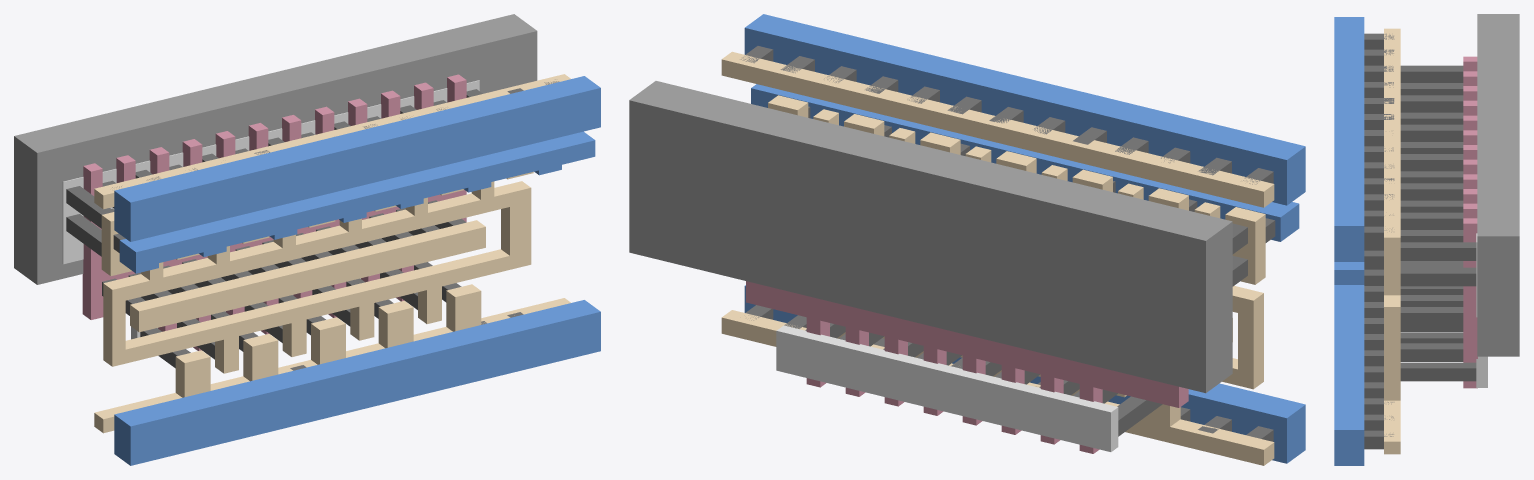
File: sky130_fd_sc_hd__lpflow_clkinvkapwr_8.gds.gltf
3 renders of one model, left to right at view 1: azimuth 30°, elevation 25°; view 2: azimuth 150°, elevation 25°; view 3: azimuth 270°, elevation 25°, orthographic. The views are drawn at different scales.
Parts seen in each view (by area): view 1: sky130_fd_sc_hd__lpflow_clkinvkapwr_8_met1, sky130_fd_sc_hd__lpflow_clkinvkapwr_8_li1, sky130_fd_sc_hd__lpflow_clkinvkapwr_8_nwell, sky130_fd_sc_hd__lpflow_clkinvkapwr_8_poly, sky130_fd_sc_hd__lpflow_clkinvkapwr_8_licon, sky130_fd_sc_hd__lpflow_clkinvkapwr_8_diff; view 2: sky130_fd_sc_hd__lpflow_clkinvkapwr_8_nwell, sky130_fd_sc_hd__lpflow_clkinvkapwr_8_met1, sky130_fd_sc_hd__lpflow_clkinvkapwr_8_li1, sky130_fd_sc_hd__lpflow_clkinvkapwr_8_diff, sky130_fd_sc_hd__lpflow_clkinvkapwr_8_poly, sky130_fd_sc_hd__lpflow_clkinvkapwr_8_mcon, sky130_fd_sc_hd__lpflow_clkinvkapwr_8_licon; view 3: sky130_fd_sc_hd__lpflow_clkinvkapwr_8_licon, sky130_fd_sc_hd__lpflow_clkinvkapwr_8_nwell, sky130_fd_sc_hd__lpflow_clkinvkapwr_8_met1, sky130_fd_sc_hd__lpflow_clkinvkapwr_8_mcon, sky130_fd_sc_hd__lpflow_clkinvkapwr_8_li1, sky130_fd_sc_hd__lpflow_clkinvkapwr_8_poly, sky130_fd_sc_hd__lpflow_clkinvkapwr_8_diff.
Boxes of the visible parts, box(x1,y1,x2,y2) form: sky130_fd_sc_hd__lpflow_clkinvkapwr_8_met1: box(114, 76, 600, 465); sky130_fd_sc_hd__lpflow_clkinvkapwr_8_li1: box(94, 74, 570, 433); sky130_fd_sc_hd__lpflow_clkinvkapwr_8_nwell: box(14, 14, 537, 284); sky130_fd_sc_hd__lpflow_clkinvkapwr_8_poly: box(82, 74, 466, 350); sky130_fd_sc_hd__lpflow_clkinvkapwr_8_licon: box(66, 89, 482, 368); sky130_fd_sc_hd__lpflow_clkinvkapwr_8_diff: box(62, 80, 479, 339); sky130_fd_sc_hd__lpflow_clkinvkapwr_8_nwell: box(629, 81, 1232, 393); sky130_fd_sc_hd__lpflow_clkinvkapwr_8_met1: box(744, 14, 1305, 463); sky130_fd_sc_hd__lpflow_clkinvkapwr_8_li1: box(721, 51, 1274, 465); sky130_fd_sc_hd__lpflow_clkinvkapwr_8_diff: box(776, 325, 1118, 451); sky130_fd_sc_hd__lpflow_clkinvkapwr_8_poly: box(746, 281, 1188, 453); sky130_fd_sc_hd__lpflow_clkinvkapwr_8_mcon: box(740, 46, 1275, 441); sky130_fd_sc_hd__lpflow_clkinvkapwr_8_licon: box(805, 223, 1247, 436); sky130_fd_sc_hd__lpflow_clkinvkapwr_8_licon: box(1400, 65, 1476, 381); sky130_fd_sc_hd__lpflow_clkinvkapwr_8_nwell: box(1477, 14, 1519, 356); sky130_fd_sc_hd__lpflow_clkinvkapwr_8_met1: box(1334, 17, 1364, 465); sky130_fd_sc_hd__lpflow_clkinvkapwr_8_mcon: box(1364, 33, 1394, 449); sky130_fd_sc_hd__lpflow_clkinvkapwr_8_li1: box(1384, 28, 1400, 454); sky130_fd_sc_hd__lpflow_clkinvkapwr_8_poly: box(1463, 56, 1477, 388); sky130_fd_sc_hd__lpflow_clkinvkapwr_8_diff: box(1476, 233, 1487, 387).
Bounding box in the file's own units: 6.36 × 3.2 × 2.24.
